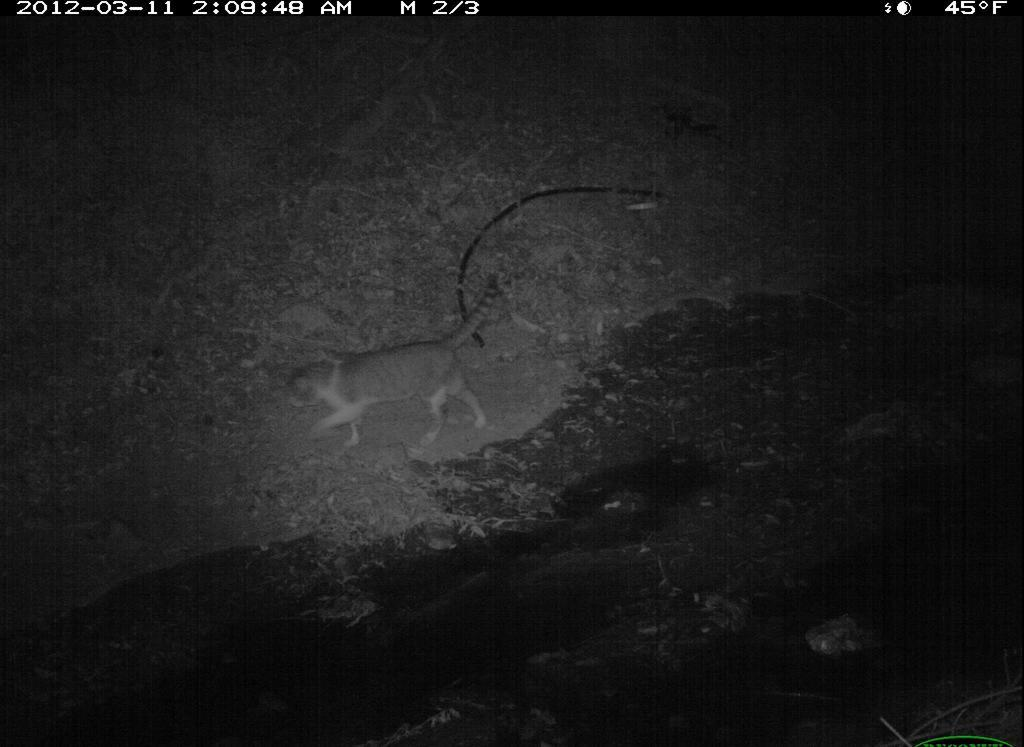cat: (272, 273, 523, 464)
